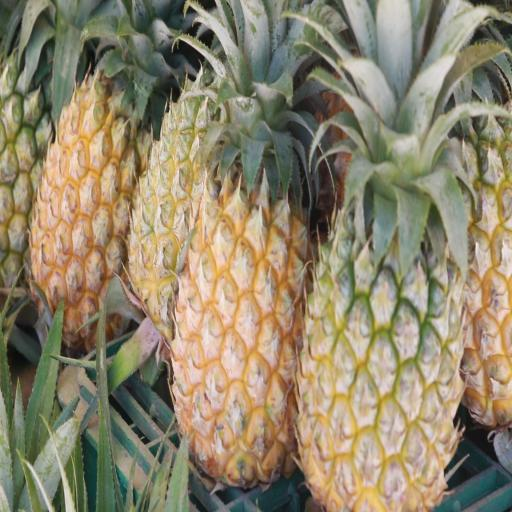------------------------------: (294, 56, 468, 511)
Pineapple - v8 v1: (164, 114, 315, 492), (25, 12, 156, 345), (126, 14, 240, 333)
